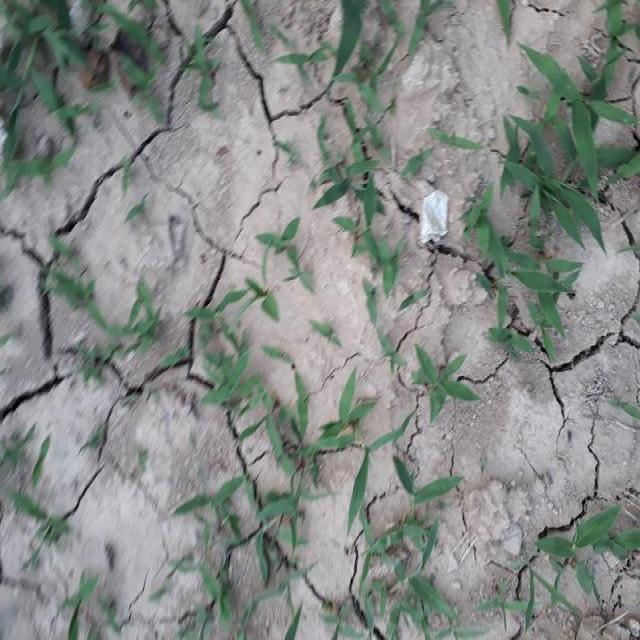weed: (184, 312, 367, 552), (494, 61, 568, 351), (386, 461, 456, 633), (316, 156, 400, 294), (573, 71, 640, 236), (545, 518, 638, 573), (418, 357, 476, 419)
